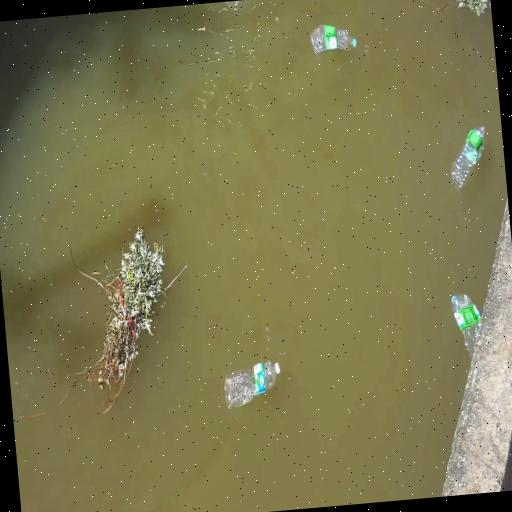plastic: (225, 361, 280, 408), (452, 127, 484, 189), (452, 294, 481, 358), (311, 25, 356, 54), (275, 363, 280, 374), (353, 39, 356, 48)
twig: (82, 226, 164, 403), (457, 0, 491, 16)
